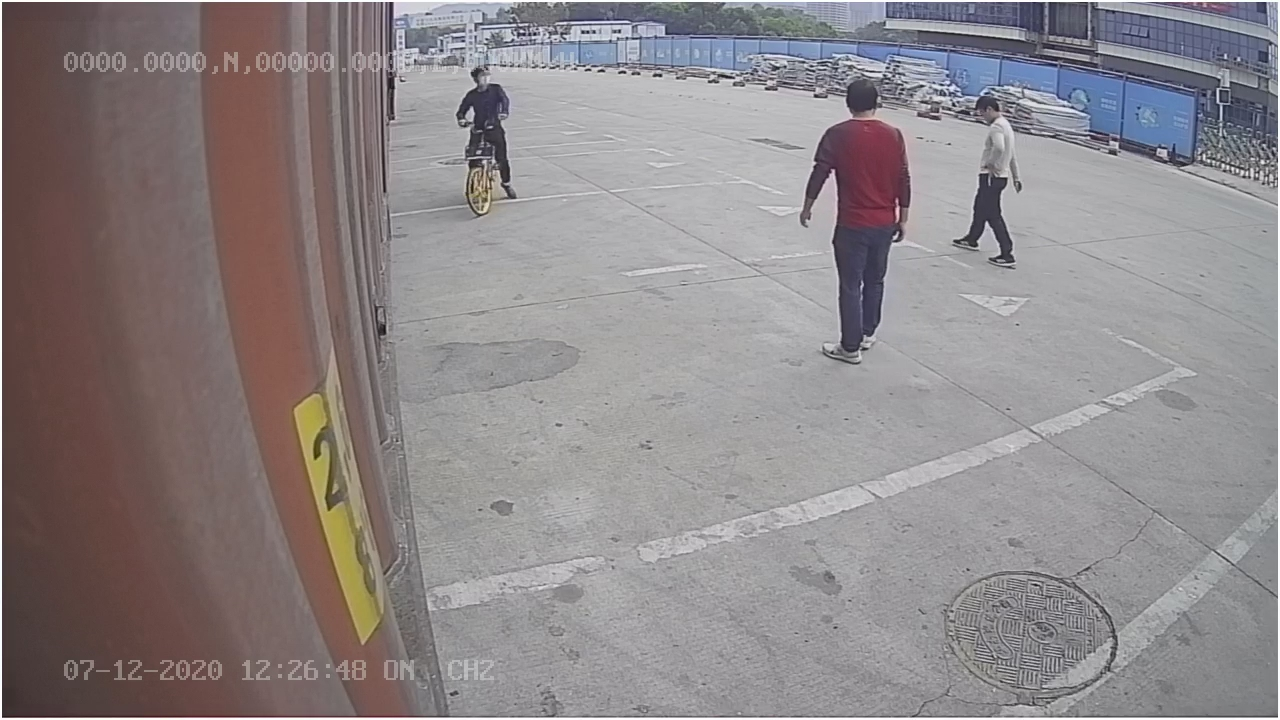person: (798, 73, 918, 367)
